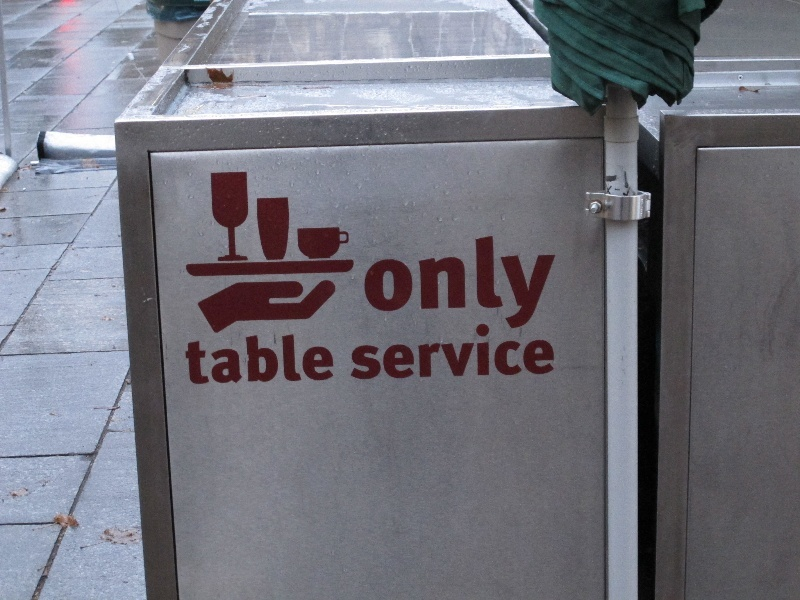text: (369, 233, 384, 329), (385, 233, 400, 329), (401, 233, 416, 329), (417, 233, 432, 329), (433, 233, 448, 329), (449, 233, 464, 329), (465, 233, 480, 329), (481, 233, 496, 329), (497, 233, 512, 329), (513, 233, 528, 329), (529, 233, 544, 329), (545, 233, 558, 329), (353, 320, 368, 382), (369, 320, 384, 382), (385, 320, 400, 382), (401, 320, 416, 382), (417, 320, 432, 382), (433, 320, 448, 382), (449, 320, 464, 382), (465, 320, 480, 382), (481, 320, 496, 382), (497, 320, 512, 382), (513, 320, 528, 382), (529, 320, 544, 382), (193, 330, 208, 386), (209, 330, 224, 386), (225, 330, 240, 386), (241, 330, 256, 386), (257, 330, 272, 386), (273, 330, 288, 386), (289, 330, 304, 386), (305, 330, 320, 386), (321, 330, 334, 386), (545, 320, 555, 382), (185, 330, 192, 386), (366, 233, 368, 329)
